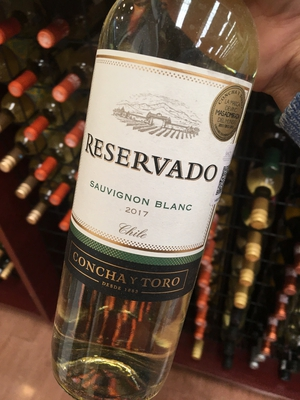reservado sauvignon blanc: (56, 1, 261, 400)
